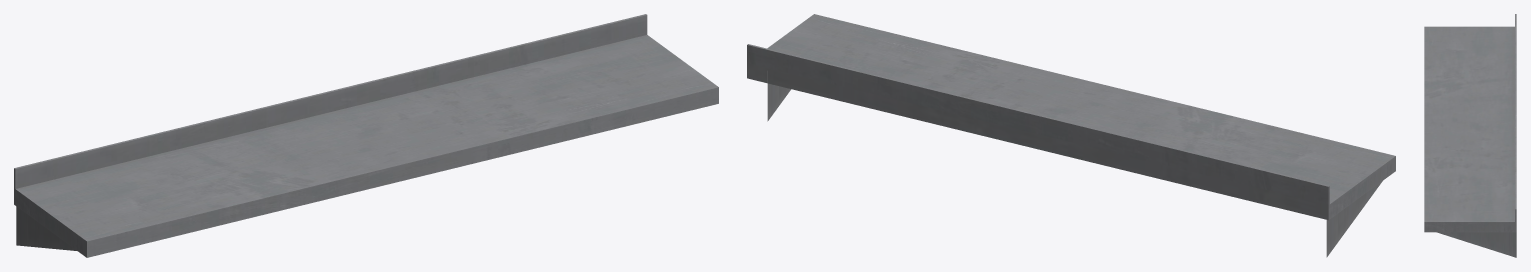
File: SM_Stainless_Shelf_01.glb
3 views of the same model, side by side, from view 1: azimuth 30°, elevation 25°; view 2: azimuth 150°, elevation 25°; view 3: azimuth 270°, elevation 25° (orthographic). The views are drawn at different scales.
Parts seen in each view (by area): view 1: SM_Stainless_Shelf_01; view 2: SM_Stainless_Shelf_01; view 3: SM_Stainless_Shelf_01.
Boxes of the visible parts, x1,y1,x2,y2 form: SM_Stainless_Shelf_01: [14, 14, 718, 257]; SM_Stainless_Shelf_01: [747, 14, 1395, 257]; SM_Stainless_Shelf_01: [1424, 14, 1516, 257].
Size of the model in its own units: 2 by 0.2353 by 0.4002.
1 material, 1 textured.
